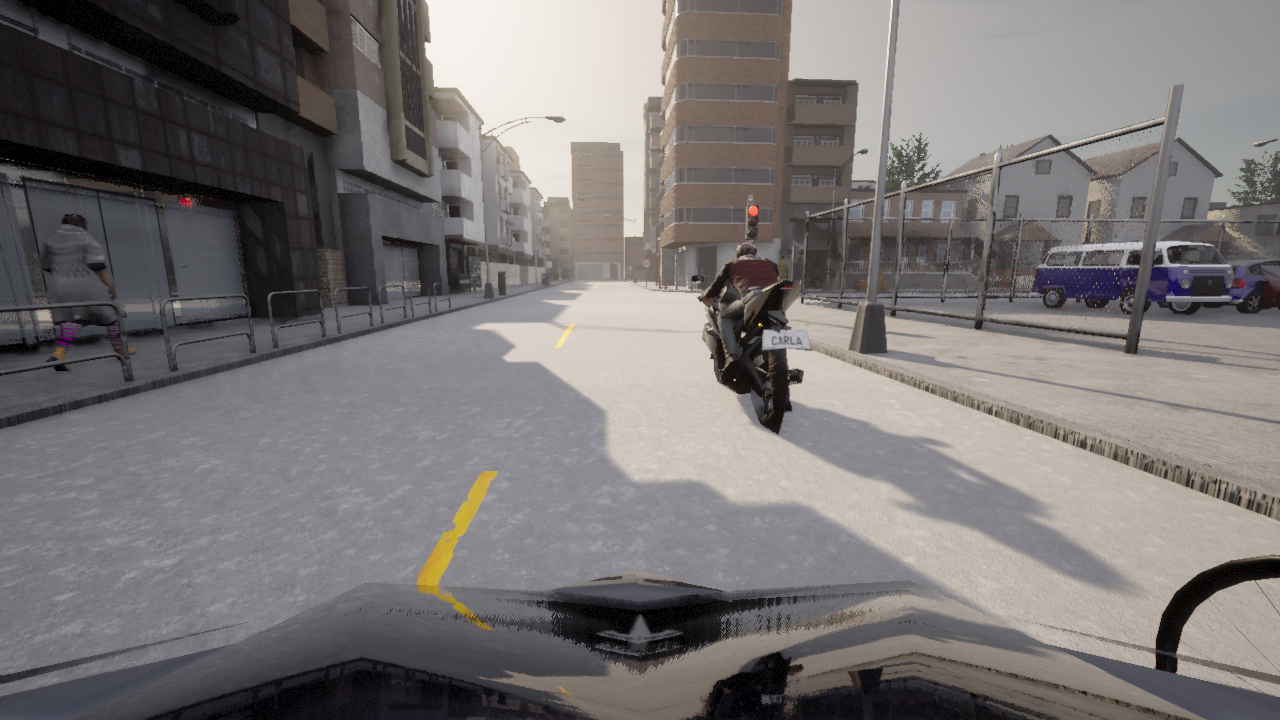cyclist: (0, 569, 1279, 719), (691, 274, 811, 432), (1155, 555, 1279, 693), (1029, 241, 1233, 313), (1157, 270, 1279, 310), (1214, 259, 1279, 312)
pedestrian: (40, 213, 136, 371), (776, 254, 789, 280)
